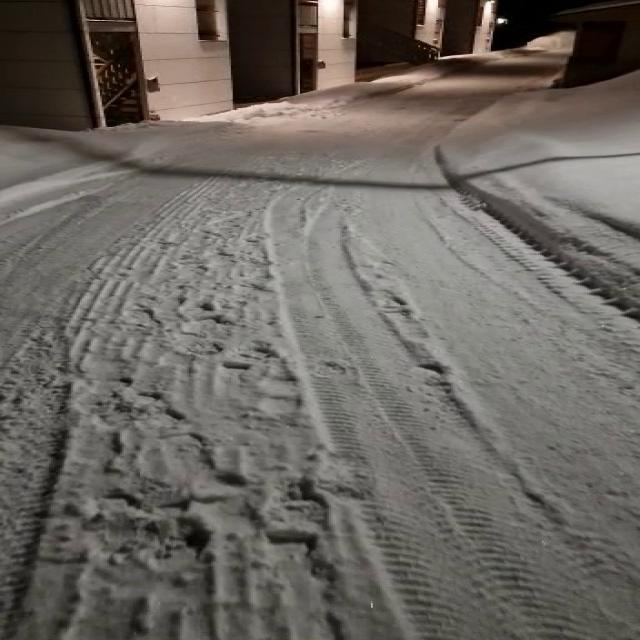path: (0, 50, 638, 640)
